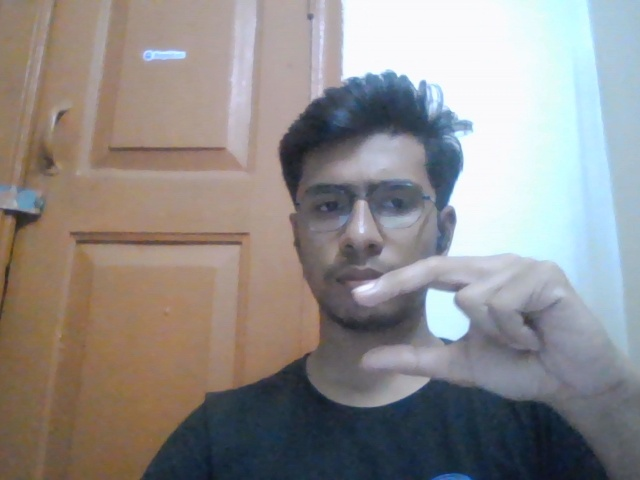No: (354, 252, 622, 388)
